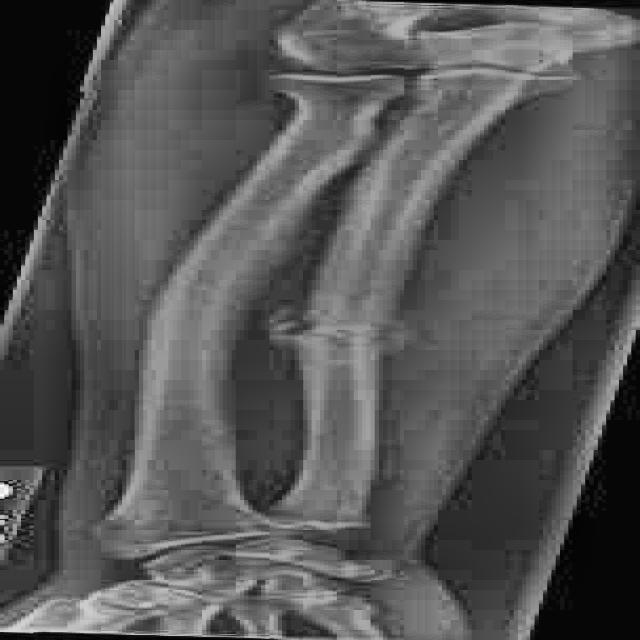forearm fracture: (227, 286, 509, 383)
